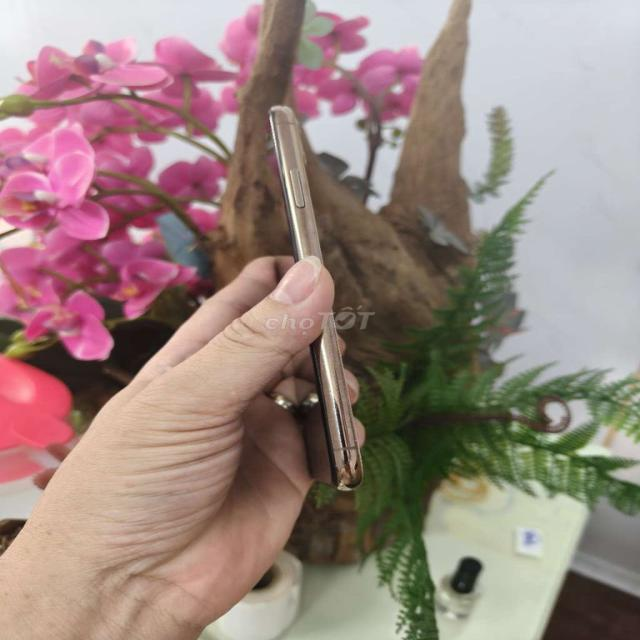scratch: (321, 330, 364, 480)
